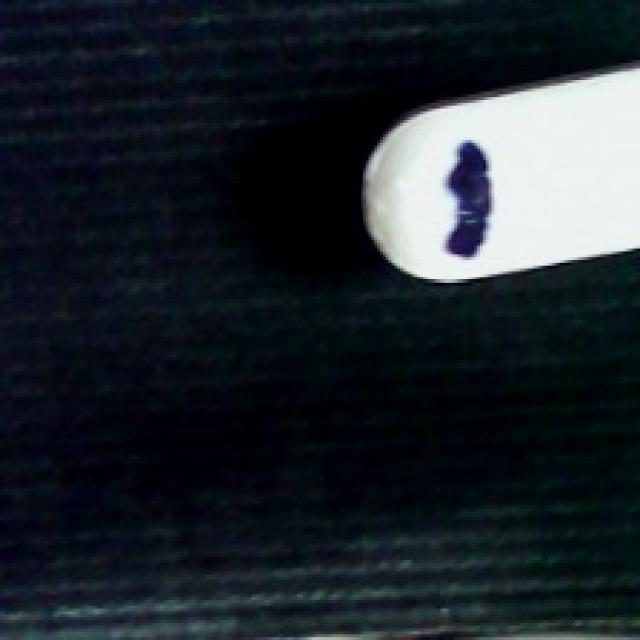defected: (354, 71, 637, 292)
